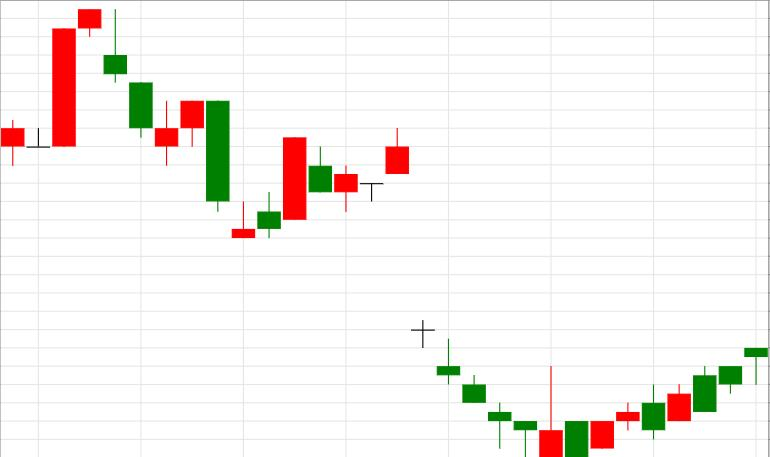inverse_hammer_rise: (411, 320, 562, 456)
